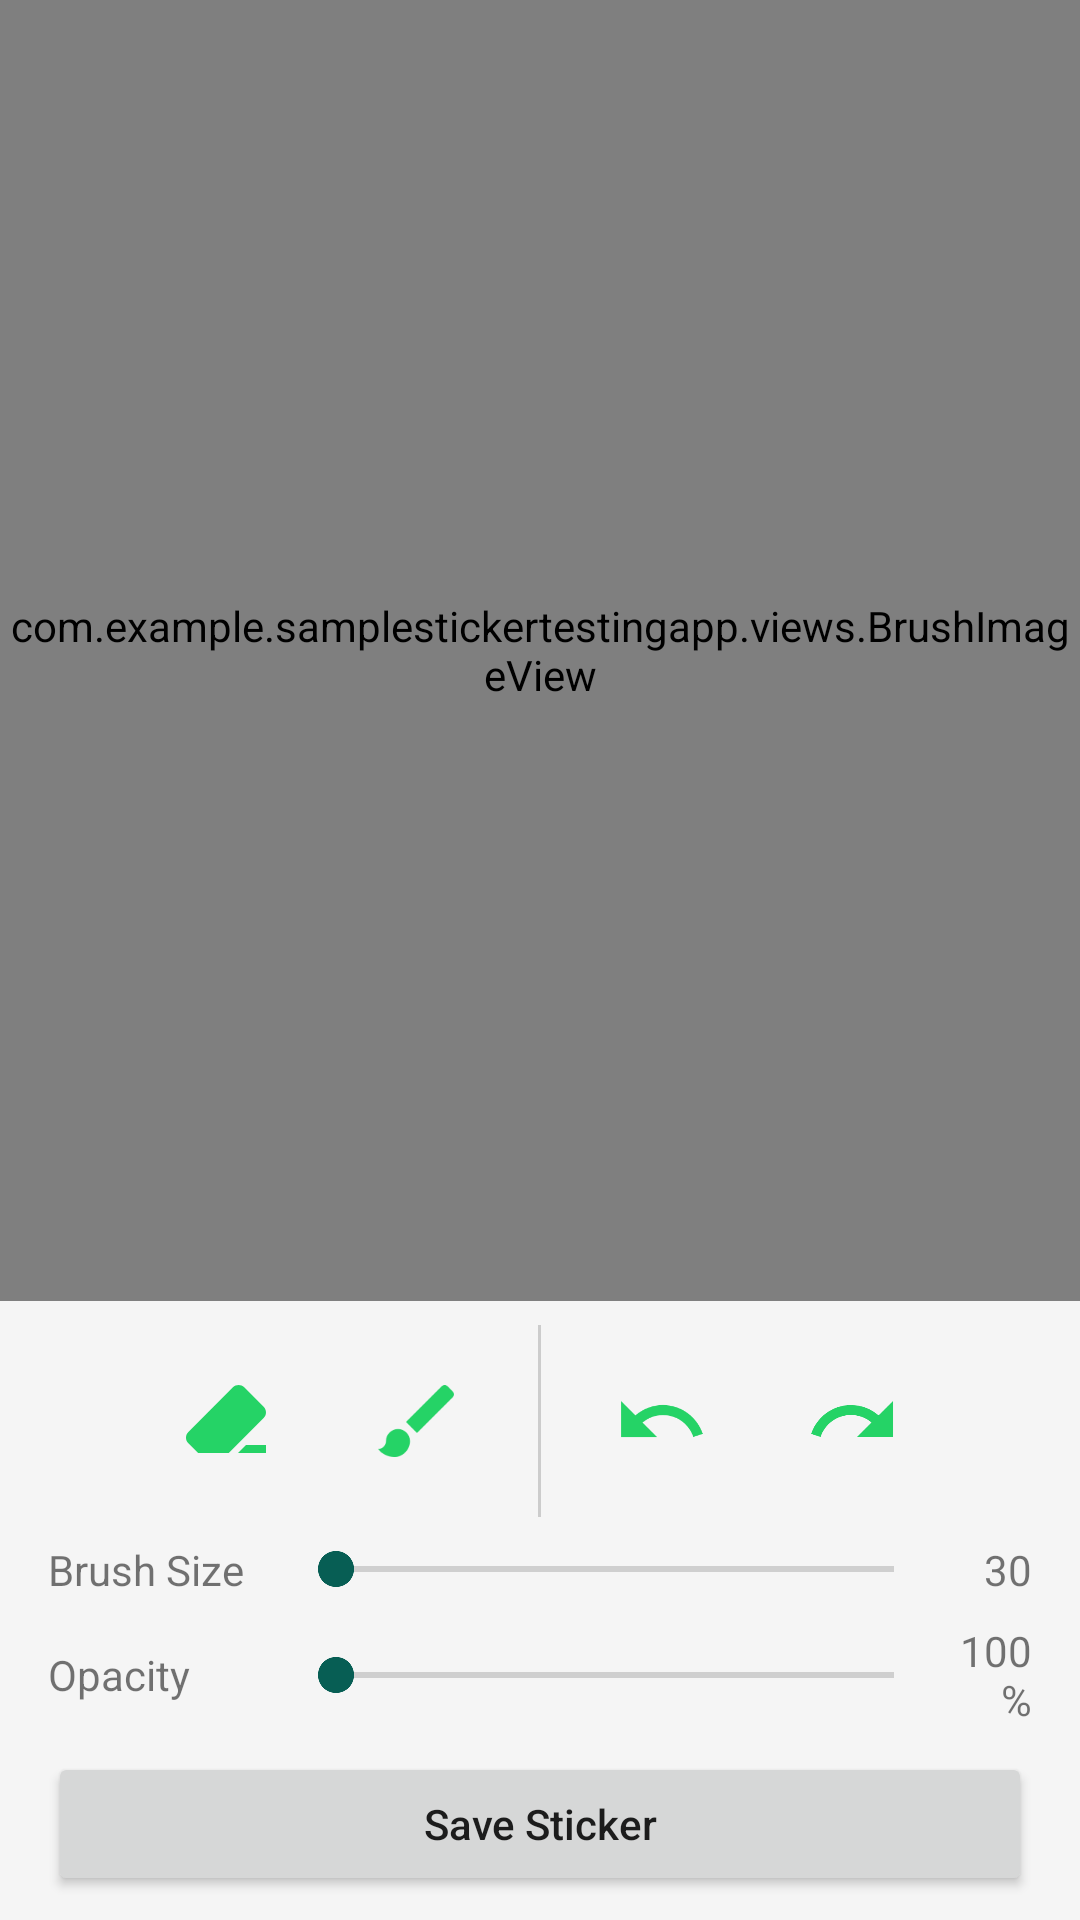

Named icons in this screenshot (1080w x 1920h) and their bounding boxes, [x1,y1,x2,y2]:
Eraser: [186,1385,266,1453]
Redo: [811,1401,893,1437]
Undo: [621,1401,703,1437]
